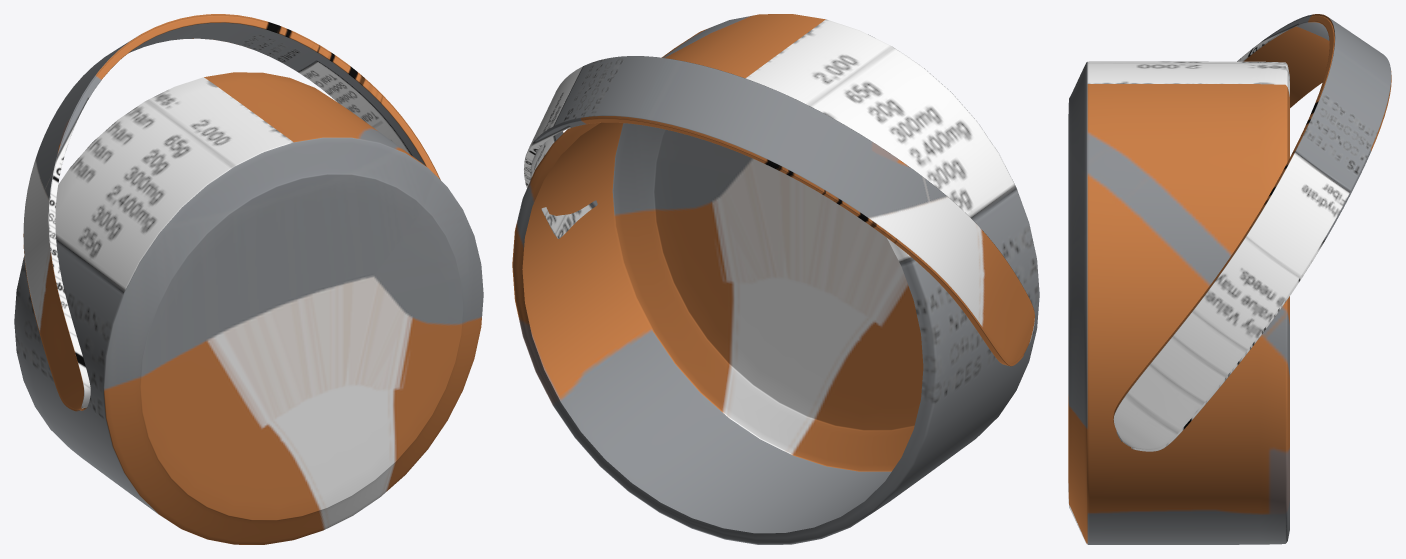
The picture shows the model from 3 angles, left to right: view 1: azimuth 30°, elevation 25°; view 2: azimuth 150°, elevation 25°; view 3: azimuth 270°, elevation 25°; orthographic projection. The views are drawn at different scales.
Bounding box in the file's own units: 0.3041 × 0.3237 × 0.1959.
